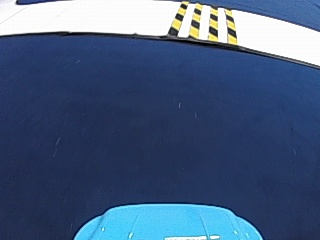bump: (160, 3, 238, 39)
